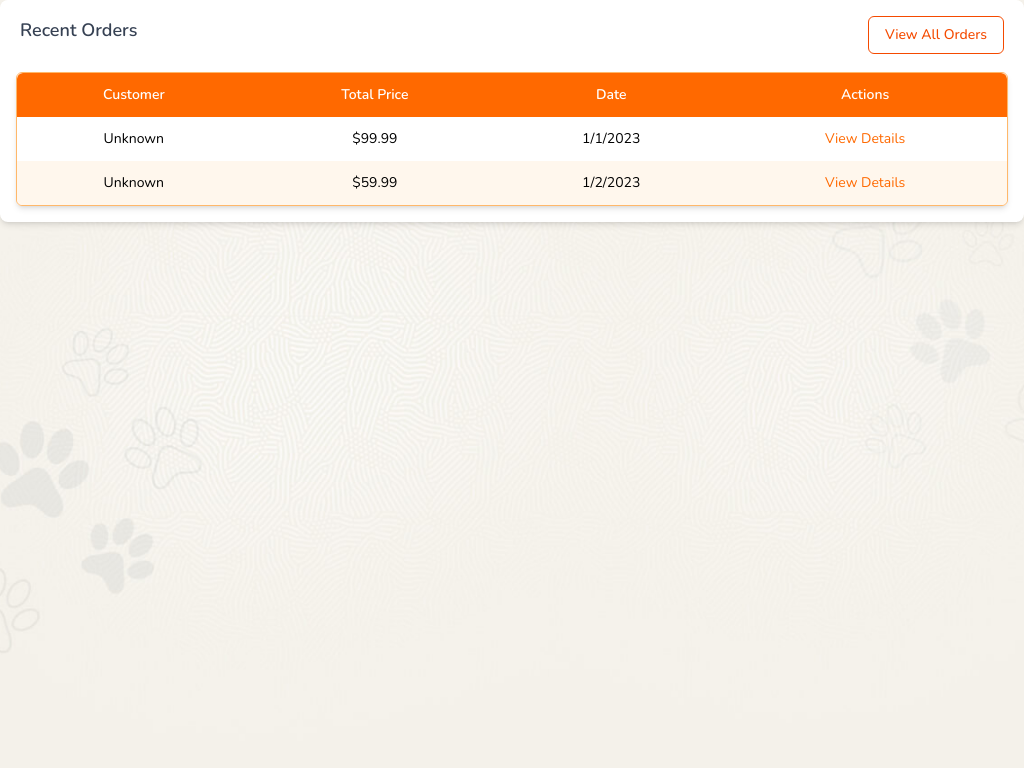
Test: RecentOrdersTable Component › opens and closes the modal when a row's 'View Details' button is clicked
// Click the "View Details" button for the first order
Click the button "View Details" in the row of "$99.99": (865, 139) [825,129,905,149]
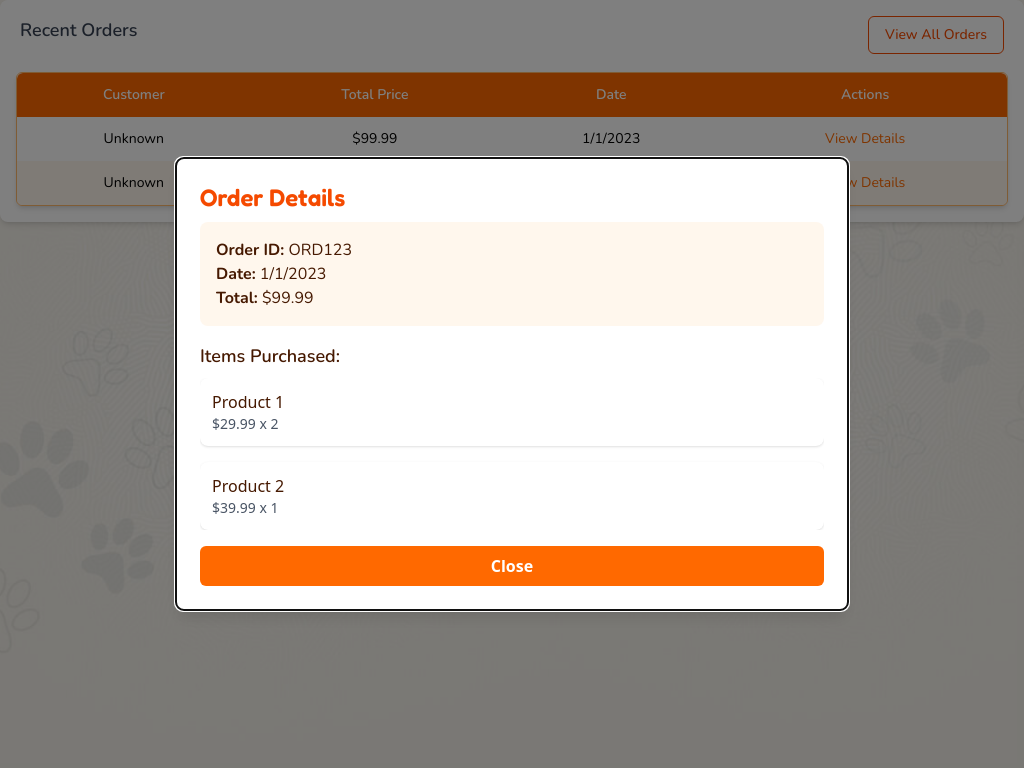
expect the heading "Order Details" is shown: met, box [200,183,345,212]
// Close the modal
Click the button "Close": (512, 566) [200,546,824,586]
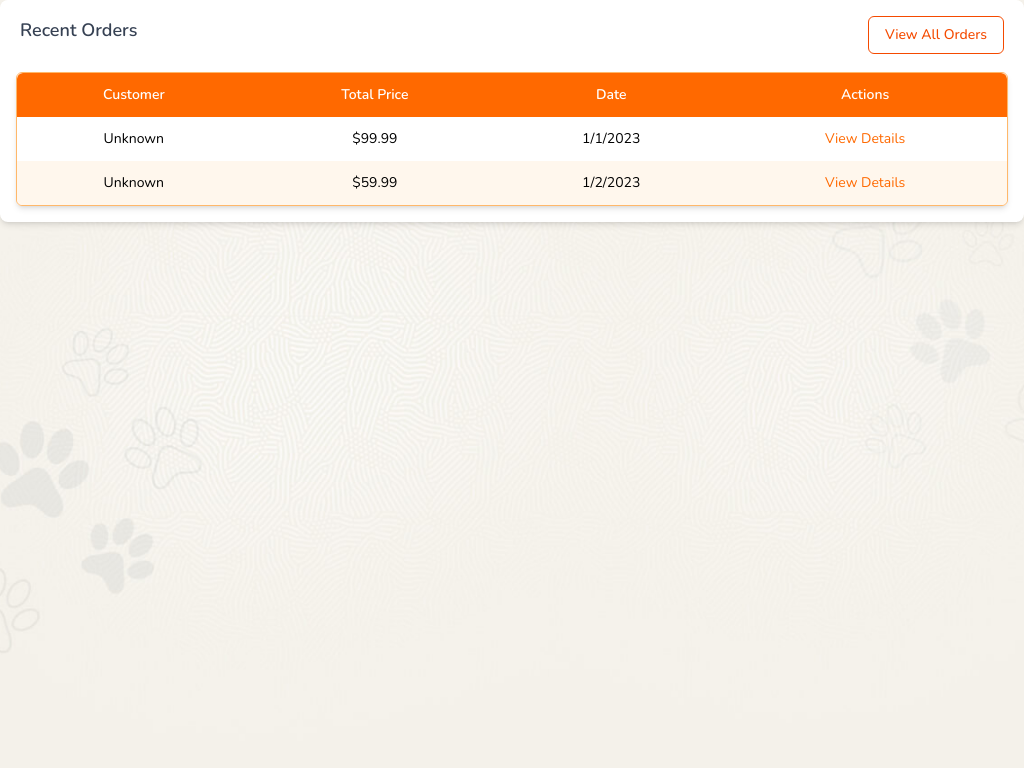
expect the heading "Order Details" is gone: met
